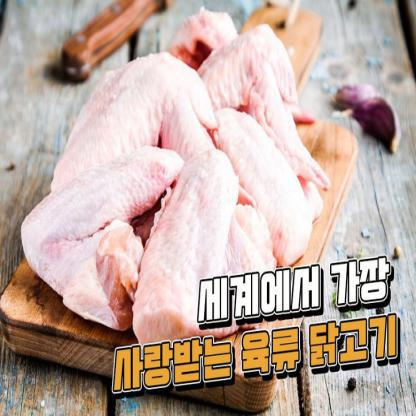chicken: (16, 140, 186, 338), (41, 48, 219, 207), (203, 79, 331, 279), (128, 140, 240, 361), (198, 23, 338, 184)
